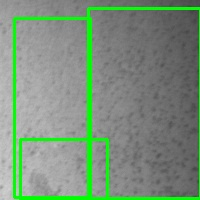pitted_surface: (88, 9, 200, 198), (14, 18, 90, 197), (20, 139, 107, 199)
